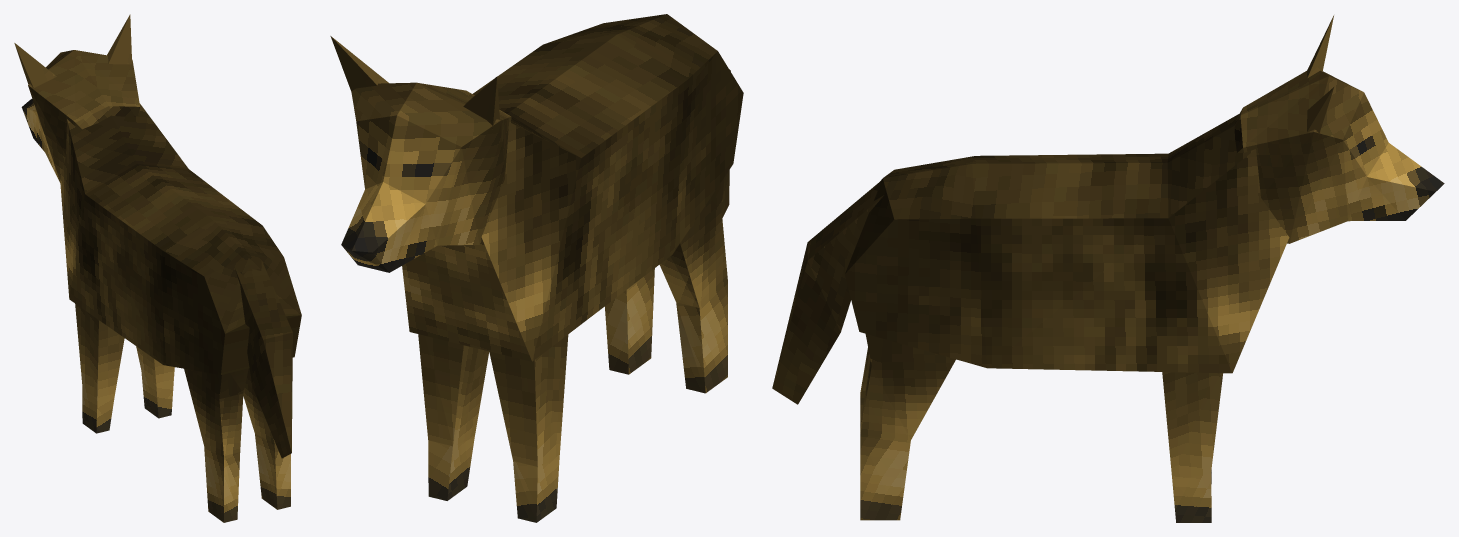
File: Wolf_Wolf_Coyote.glb
3 renders of one model, left to right at view 1: azimuth 30°, elevation 25°; view 2: azimuth 150°, elevation 25°; view 3: azimuth 270°, elevation 25°, orthographic. The views are drawn at different scales.
Visible parts, largest first — view 1: Body, Head, Leg3, Leg1, Leg4, Leg2; view 2: Body, Head, Leg1, Leg3, Leg2, Leg4; view 3: Body, Head, Leg4, Leg2.
Part boxes in pixels (<box>): Body: <box>60,103,301,458</box>; Head: <box>14,14,139,182</box>; Leg3: <box>184,368,248,522</box>; Leg1: <box>75,303,124,433</box>; Leg4: <box>243,368,290,509</box>; Leg2: <box>136,346,174,418</box>; Body: <box>402,14,743,361</box>; Head: <box>330,36,511,272</box>; Leg1: <box>489,334,568,522</box>; Leg3: <box>659,178,727,393</box>; Leg2: <box>418,334,489,500</box>; Leg4: <box>605,268,654,374</box>; Body: <box>772,114,1289,404</box>; Head: <box>1234,15,1444,243</box>; Leg4: <box>860,334,955,520</box>; Leg2: <box>1162,372,1222,522</box>.
Size of the model in its own units: 0.3836 by 1.11 by 1.5.
Materials: 1 (1 with a texture image).
